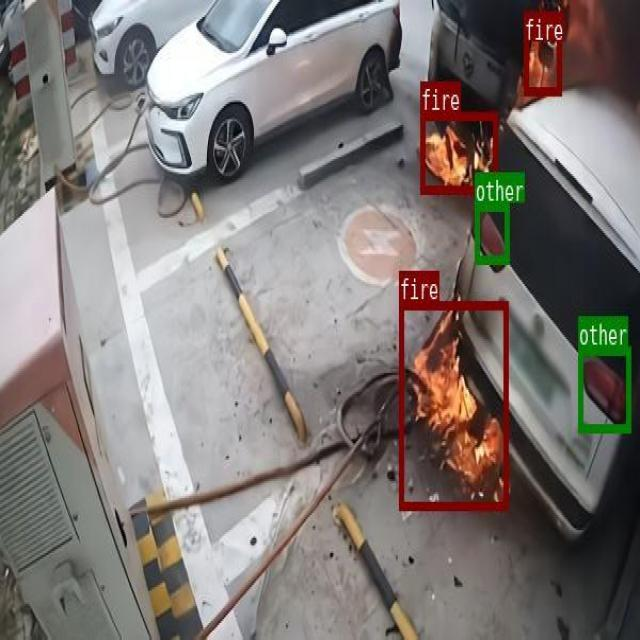fire: (398, 301, 508, 508), (420, 111, 496, 193), (523, 12, 560, 94)
